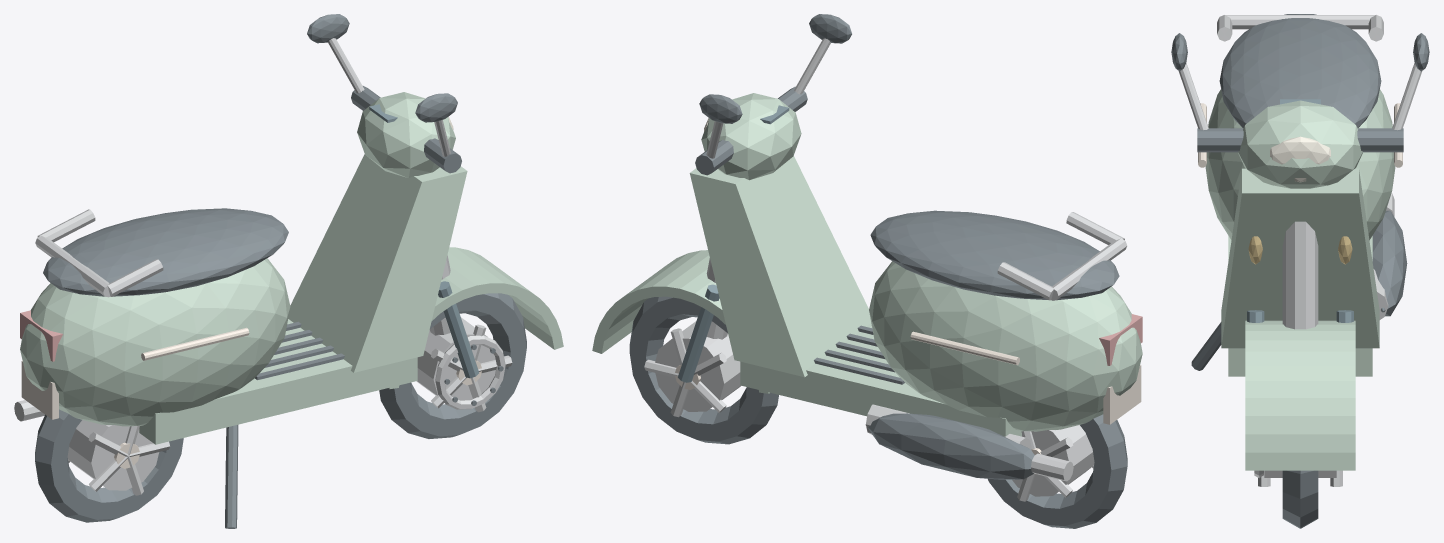
Rendered from prop-scooter.glb.
3 renders of one model, left to right at view 1: azimuth 30°, elevation 25°; view 2: azimuth 150°, elevation 25°; view 3: azimuth 270°, elevation 25°, orthographic. The views are drawn at different scales.
Visible parts, largest first — view 1: tube_2, ring_0; view 2: tube_2, ring_0; view 3: tube_2, ring_0.
Boxes of the visible parts, x1,y1,x2,y2 form: tube_2: (20, 92, 563, 468); ring_0: (14, 14, 526, 528); tube_2: (592, 93, 1142, 474); ring_0: (629, 14, 1127, 528); tube_2: (1198, 89, 1402, 470); ring_0: (1171, 14, 1429, 528).
Size of the model in its own units: 1.92 by 1.43 by 0.75.
2 materials, 2 textured.
